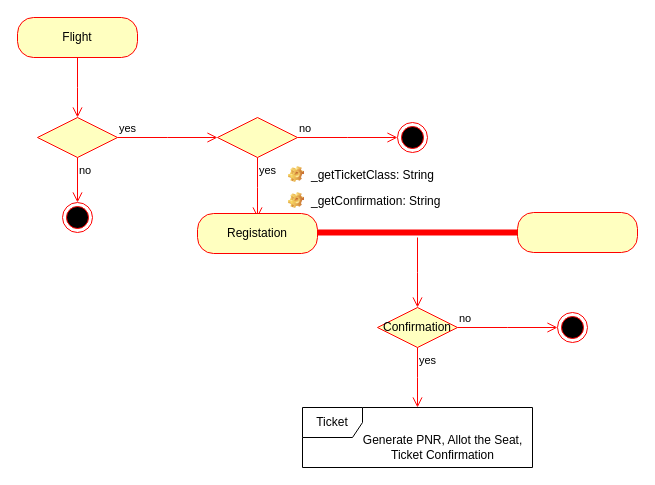
Image size: 655x485. Some labels were removed from this diagram. Here are the shapes that lost their labels. From the top down, the centre of each, then its label:
At (77,137): "Flight Availability".
At (257,137): "Ticket Availability".
At (577,232): "Special Service".
